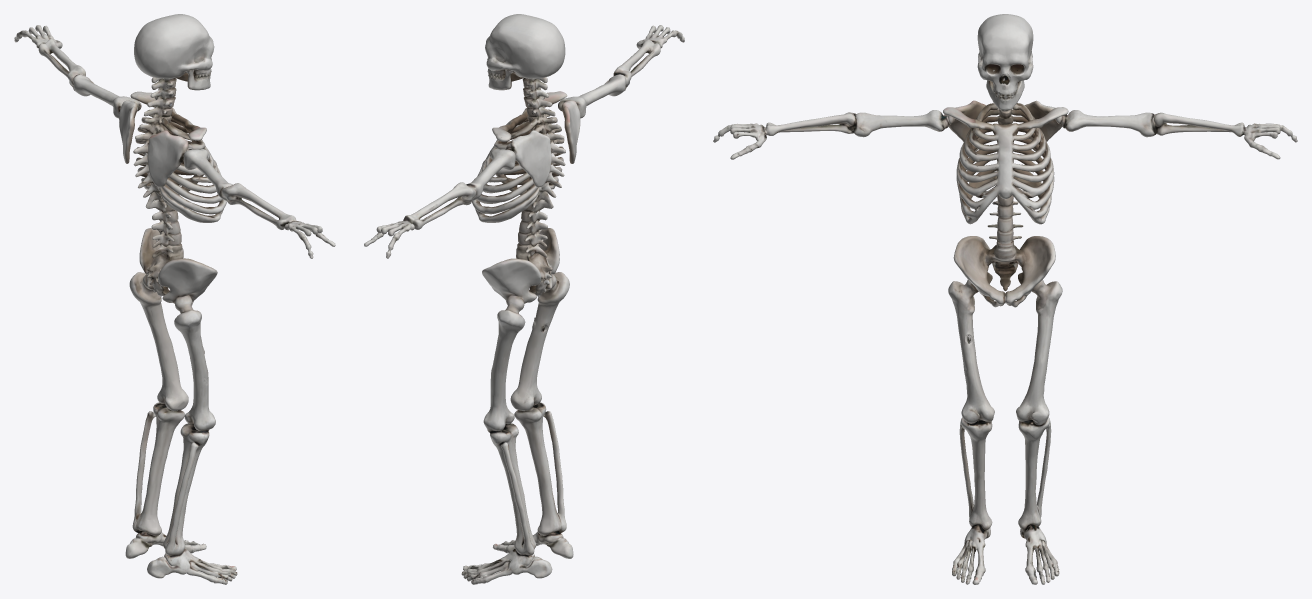
The model's file is guge1.fbx.
3 renders of one model, left to right at view 1: azimuth 30°, elevation 25°; view 2: azimuth 150°, elevation 25°; view 3: azimuth 270°, elevation 25°, orthographic.
Parts seen in each view (by area): view 1: tripo_node_1b97e970; view 2: tripo_node_1b97e970; view 3: tripo_node_1b97e970.
Boxes of the visible parts, x1,y1,x2,y2 form: tripo_node_1b97e970: (14,14,335,584); tripo_node_1b97e970: (364,14,684,584); tripo_node_1b97e970: (713,14,1297,584).
Bounding box in the file's own units: 0.1624 × 0.979 × 0.9525.
Materials: 1 (1 with a texture image).
